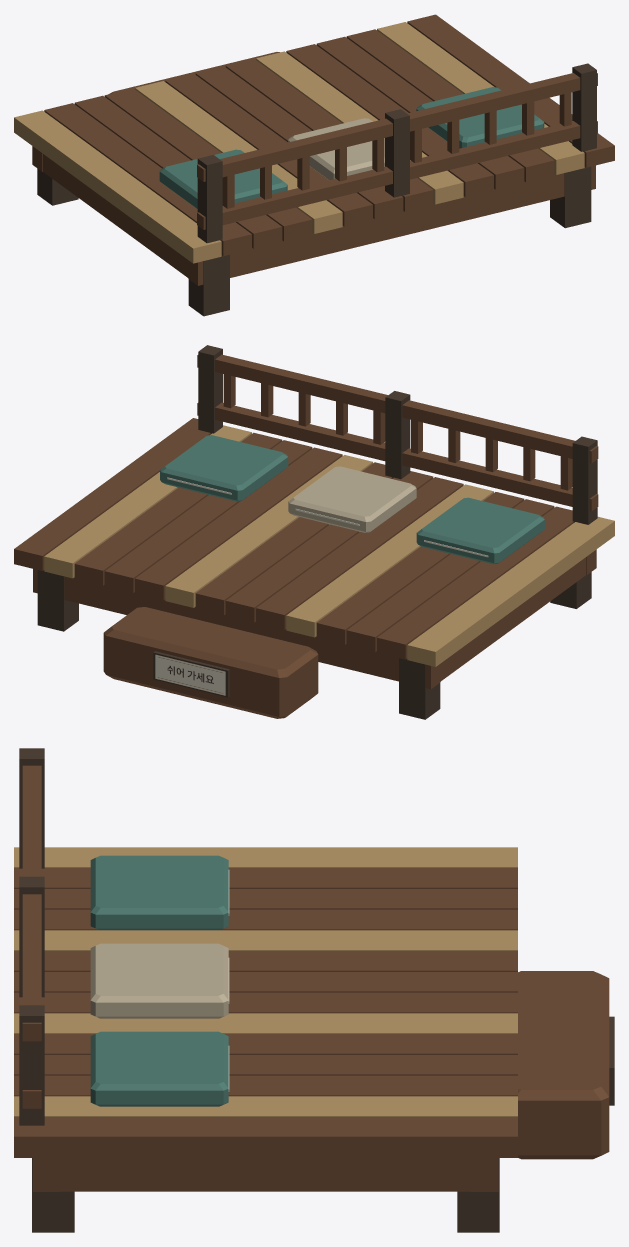
File: F02_Pyeongsang_Rest_Platform.fbx
The picture shows the model from 3 angles, top to bottom: view 1: azimuth 30°, elevation 25°; view 2: azimuth 150°, elevation 25°; view 3: azimuth 270°, elevation 25°; orthographic projection. The views are drawn at different scales.
Visible parts, largest first — view 1: Slatted_Deck, Low_Backrest, Platform_Frame, Cushions; view 2: Slatted_Deck, Low_Backrest, Cushions, Entry_Step, Platform_Frame, Front_Label; view 3: Slatted_Deck, Cushions, Platform_Frame, Entry_Step, Low_Backrest.
Boxes of the visible parts, x1,y1,x2,y2 form: Slatted_Deck: [14, 14, 614, 263]; Low_Backrest: [197, 63, 597, 243]; Platform_Frame: [32, 146, 595, 316]; Cushions: [159, 87, 544, 208]; Slatted_Deck: [14, 418, 614, 666]; Low_Backrest: [197, 345, 598, 524]; Cushions: [160, 435, 544, 564]; Entry_Step: [103, 607, 318, 718]; Platform_Frame: [33, 549, 596, 719]; Front_Label: [153, 651, 229, 697]; Slatted_Deck: [14, 847, 517, 1157]; Cushions: [90, 855, 229, 1106]; Platform_Frame: [32, 1158, 499, 1232]; Entry_Step: [518, 971, 609, 1159]; Low_Backrest: [19, 748, 44, 1125].
Bounding box in the file's own units: 3.22 × 1.13 × 2.83.
7 materials, 1 textured.
